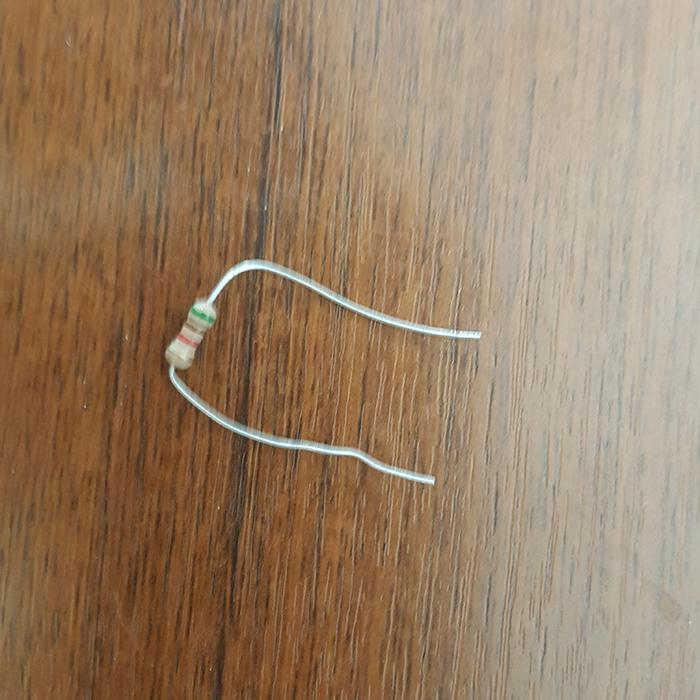resistor: (165, 296, 219, 370)
